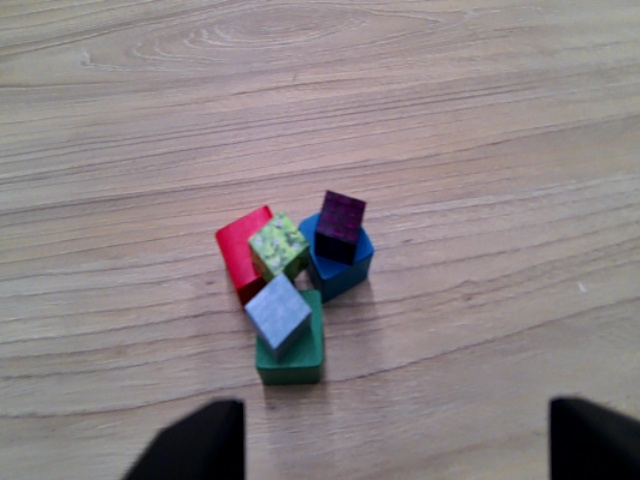brick: (315, 185, 365, 266)
grass: (250, 208, 308, 280)
stone: (245, 274, 308, 357)
